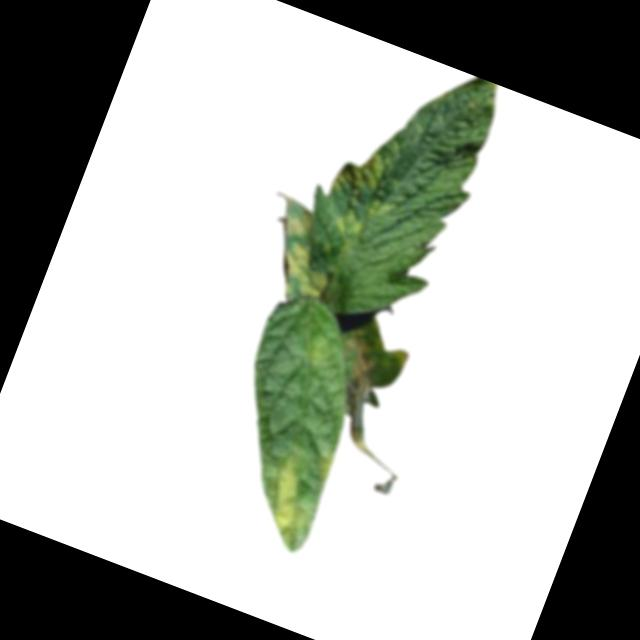Leaf_Mold: (314, 135, 413, 251), (246, 438, 339, 556), (258, 204, 351, 314), (325, 321, 393, 419)
